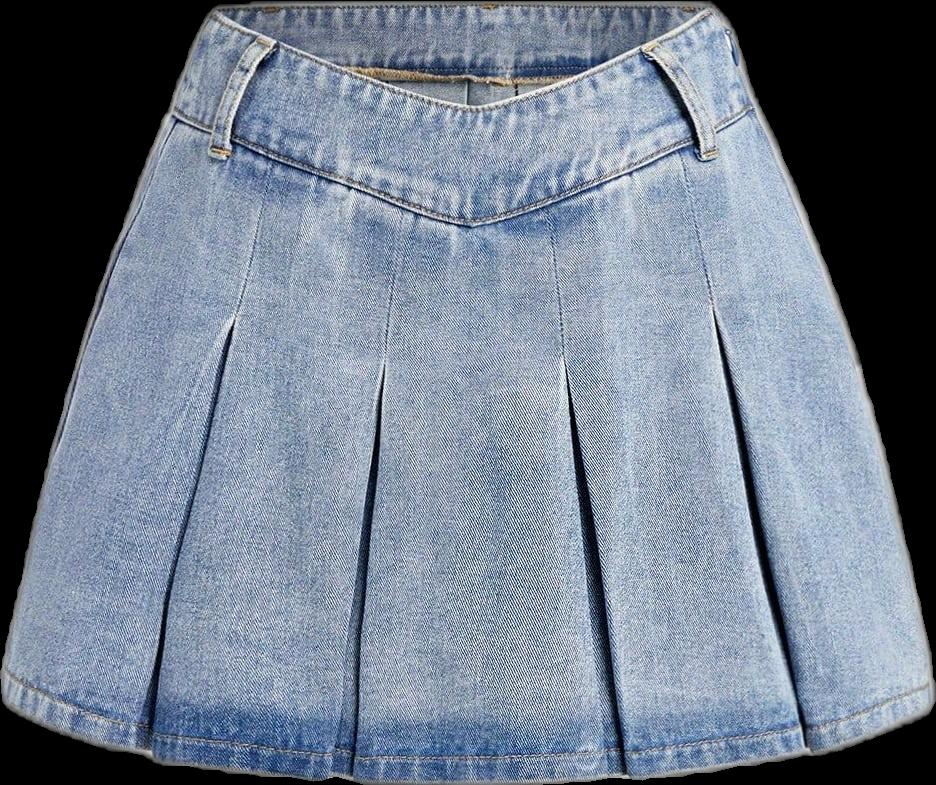Hemline: (0, 685, 935, 784)
Waistline: (166, 100, 757, 228), (207, 7, 711, 112)
